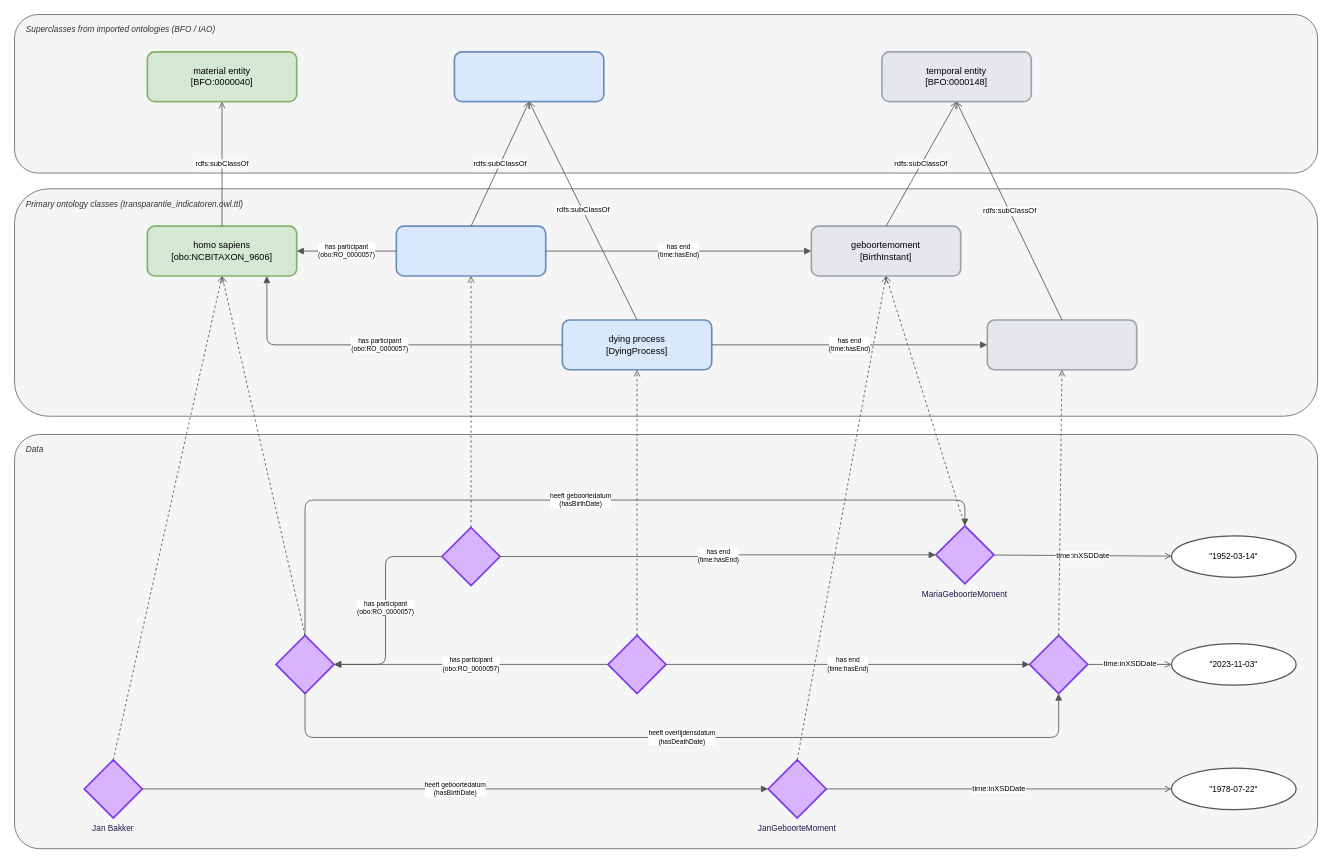
The diagram is 1332 pixels wide and 863 high, and some of its shapes have lost their labels. The centre of each missing label's shape, as x and y in pixels:
geboorteproces [BirthProcess]: point (470, 250)
Maria de Vries: point (304, 664)
MariaGeboorteProces: point (470, 556)
MariaOverlijdensMoment: point (1058, 664)
MariaOverlijdensProces: point (636, 664)
overlijdensmoment [DeathInstant]: point (1061, 344)
process [BFO:0000015]: point (528, 76)
